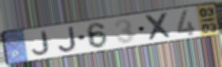3: (113, 18, 136, 45)
4: (176, 8, 197, 37)
6: (85, 22, 108, 50)
J: (57, 26, 79, 53), (31, 30, 51, 56)
X: (142, 11, 175, 42)
